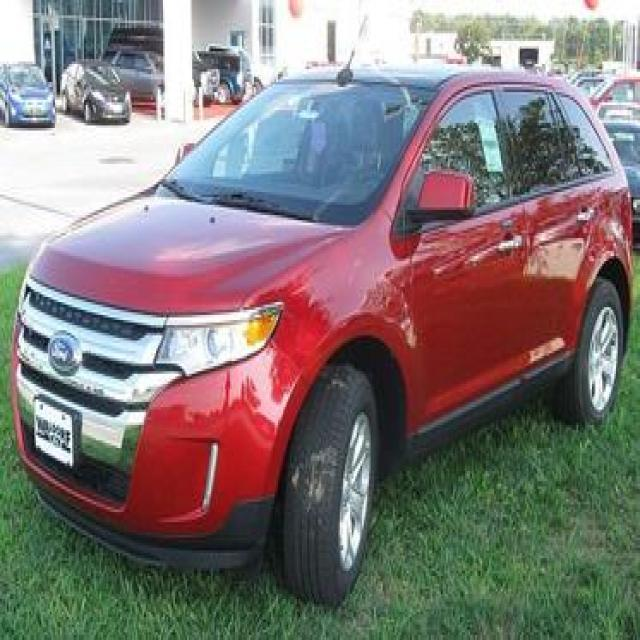Car: (27, 59, 640, 584)
